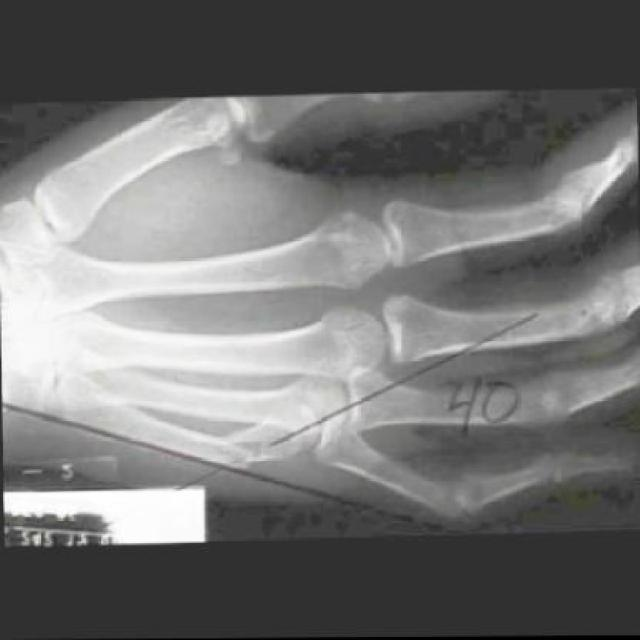Fracture: (217, 422, 277, 473)
